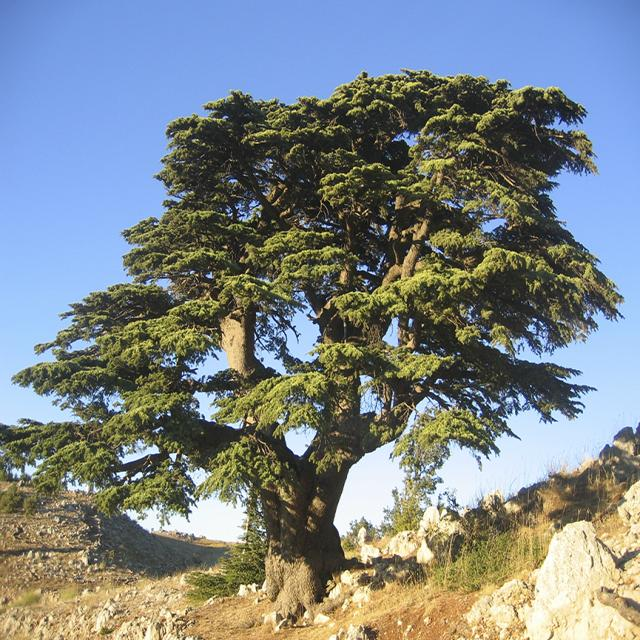cedro: (6, 58, 631, 611)
